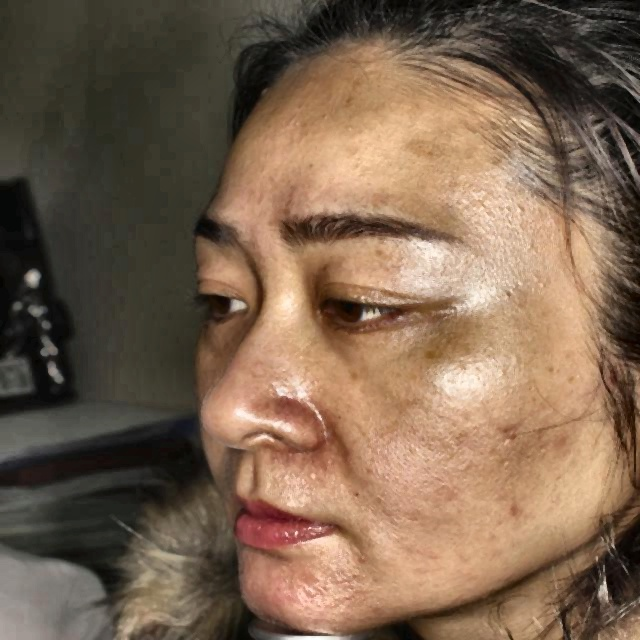comedone: (547, 425, 577, 461), (498, 417, 521, 452), (501, 496, 528, 522)
